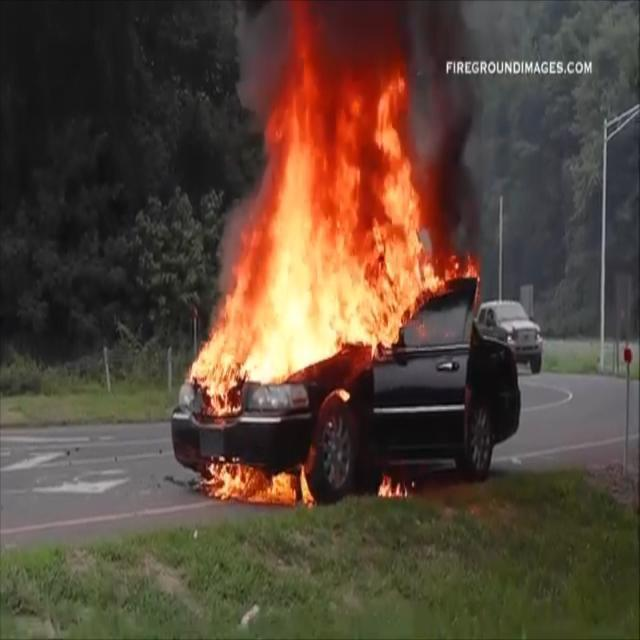fire: (198, 11, 482, 468), (208, 471, 424, 518)
